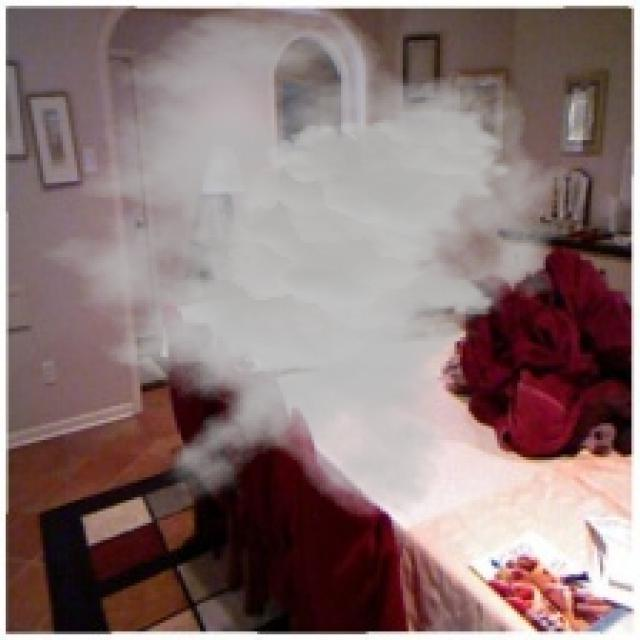Smoke: (17, 3, 574, 520)
